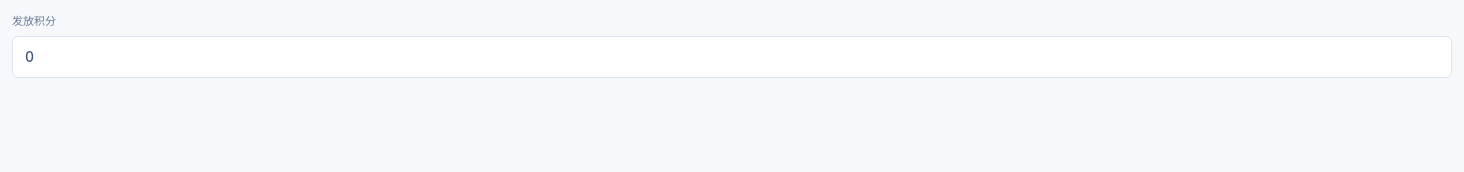
it: numeric input drafts › reports calculation errors and clears its registration on unmount
Replace the text in the field labelled "发放积分" with "999": [732, 57] box [13,37,1451,77]
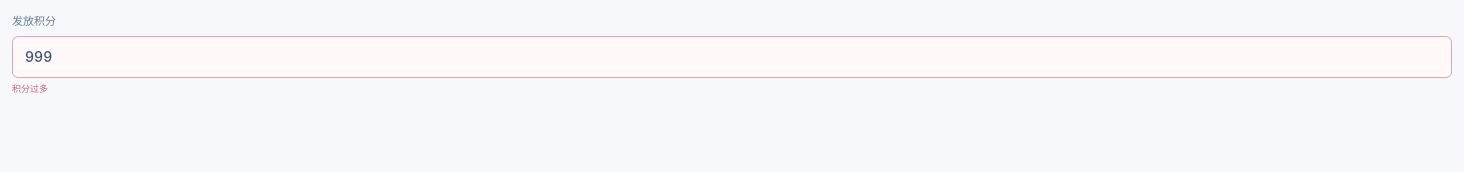
Now the text "积分过多" is shown, box [12,83,48,94]
